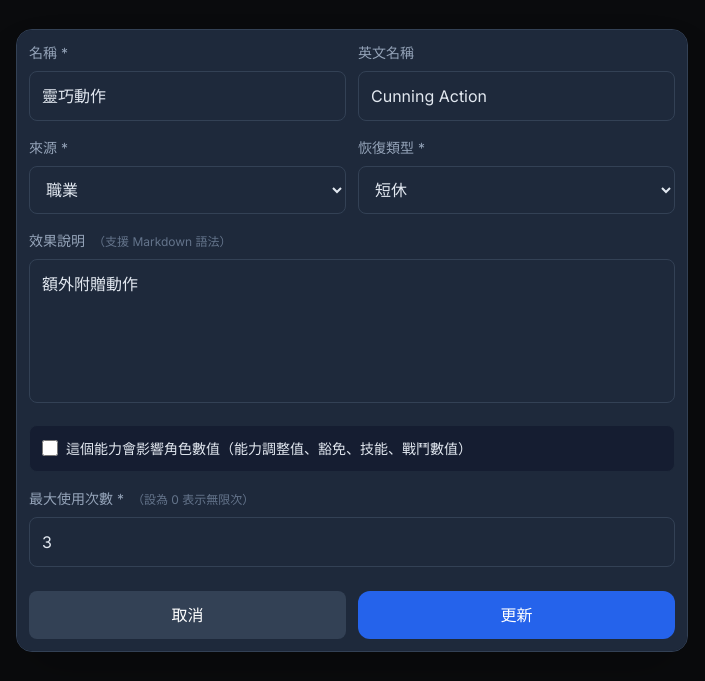
Test: AbilityFormModal › 勾選「這個能力會影響角色數值」才顯示 StatBonusEditor
Expected: the text "設定後，角色擁有此能力時，這些加值會自動套用並在角色卡與戰鬥檢視的加值列表中顯示來源。" is not shown
What coordinates should you click on to do the following:
click the checkbox
I would click on:
 (50, 448)
Its box is [42,440,58,456].
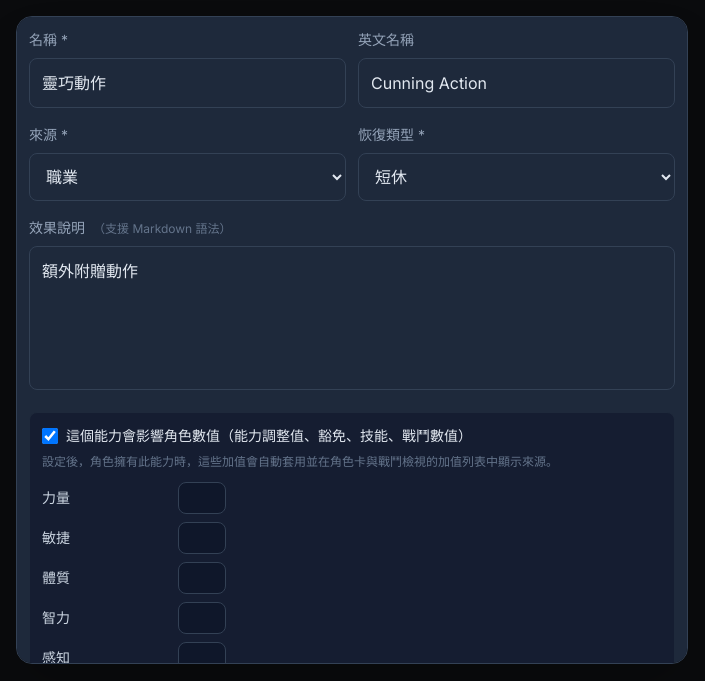
Expected: the text "設定後，角色擁有此能力時，這些加值會自動套用並在角色卡與戰鬥檢視的加值列表中顯示來源。" is shown, [42,454,558,469]
